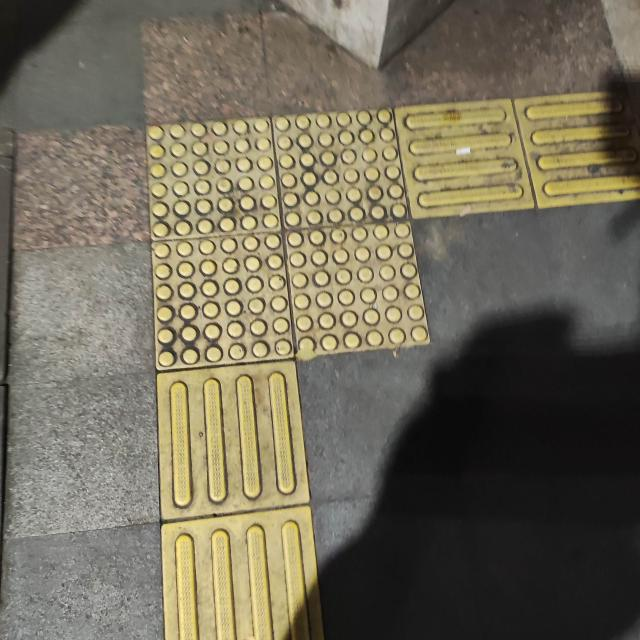kanan: (61, 70, 623, 458)
